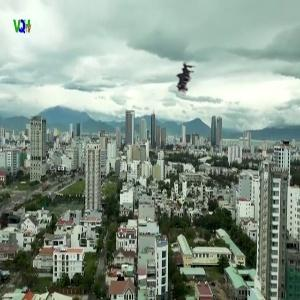drone: (165, 57, 208, 100)
